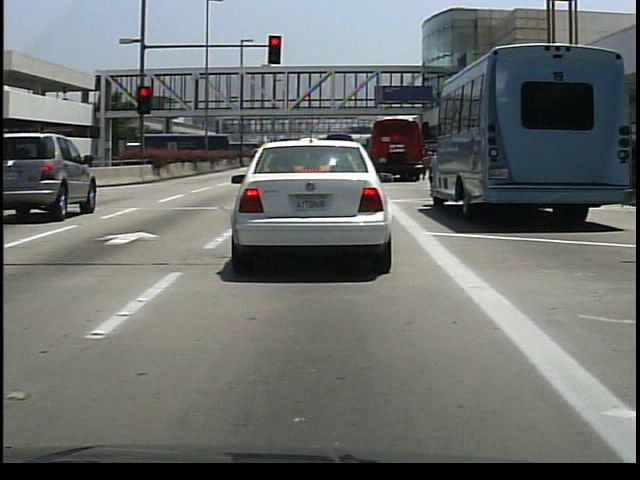person: (423, 139, 435, 180)
